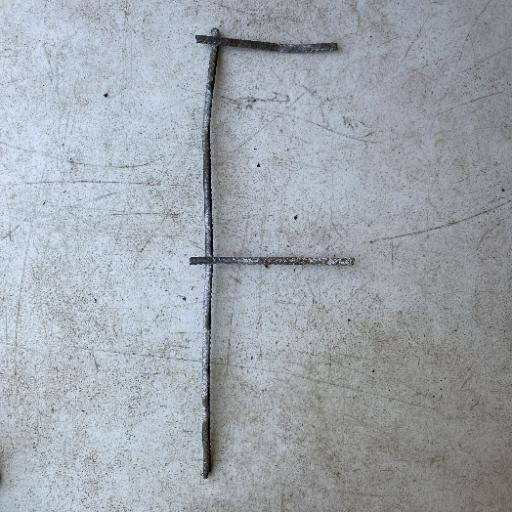Metal: (2, 2, 509, 509)
